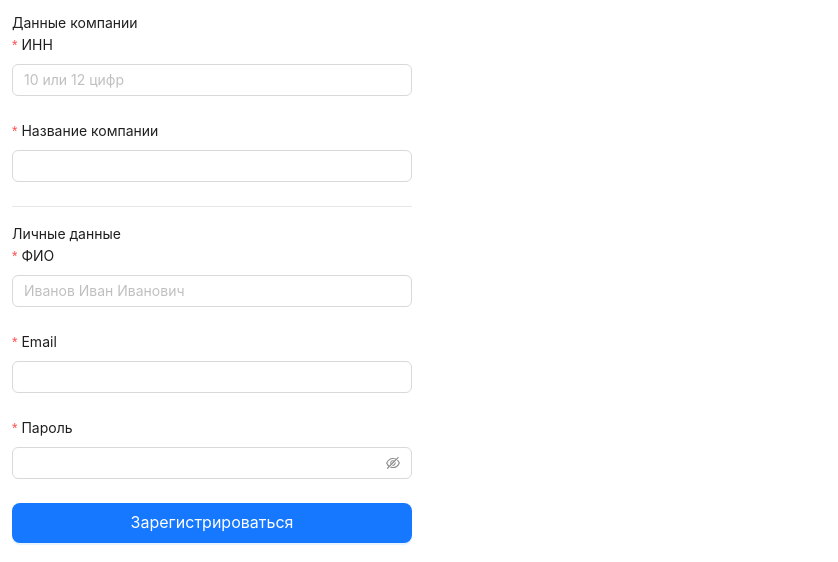
Test: Feature: RegisterForm › should autofill company name on valid INN blur
The width and height of the screenshot is (838, 562).
Type "7736207543" into the field labelled "ИНН".
click(212, 80); type("7736207543")  # box [12,64,412,96]
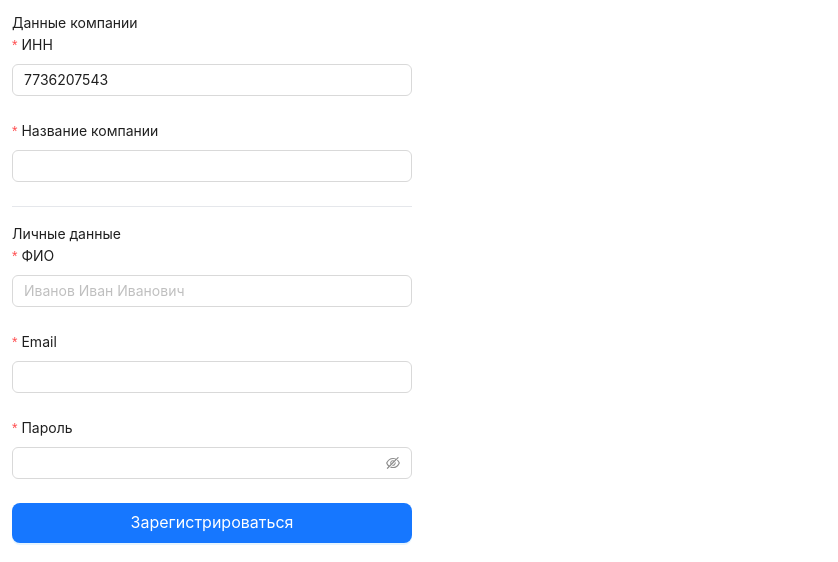
Leave the field labelled "ИНН", box [12,64,412,96]
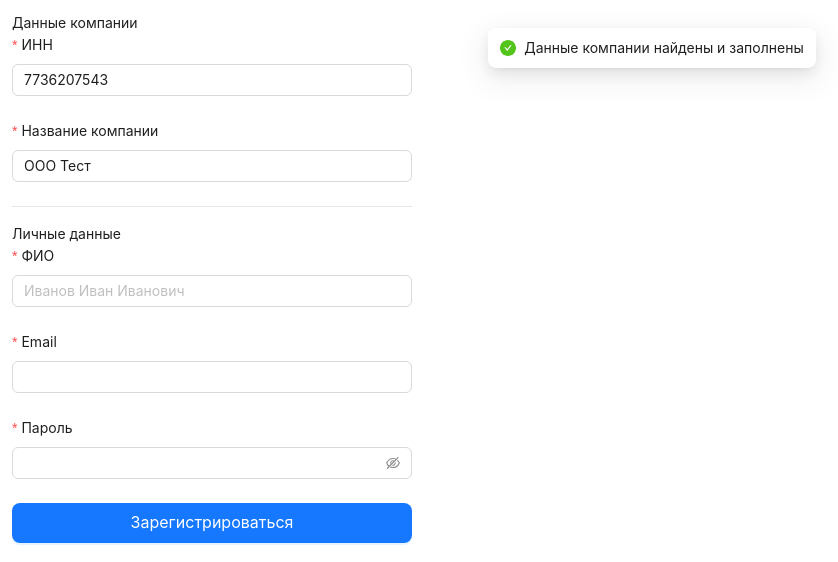
expect the field labelled "Название компании" holds "ООО Тест": met, box [12,150,412,182]
